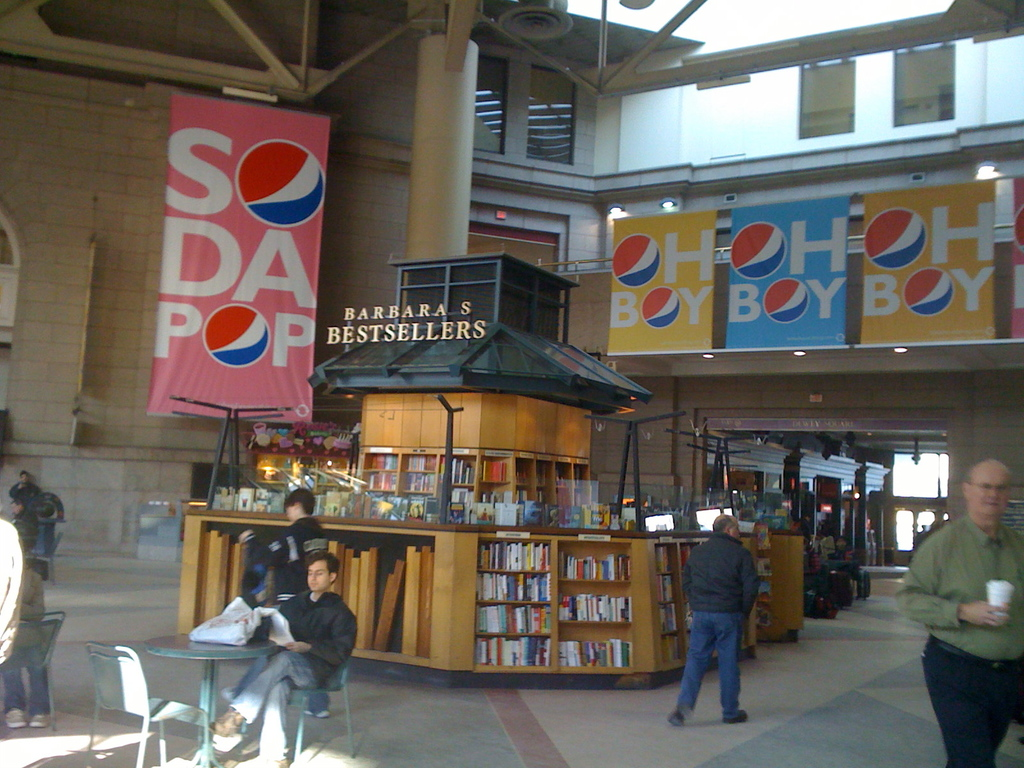Footwear: (208, 709, 242, 739), (730, 708, 753, 725), (4, 712, 28, 728), (667, 709, 687, 728), (307, 705, 332, 720), (31, 715, 49, 728), (221, 755, 239, 767), (260, 761, 292, 767)
